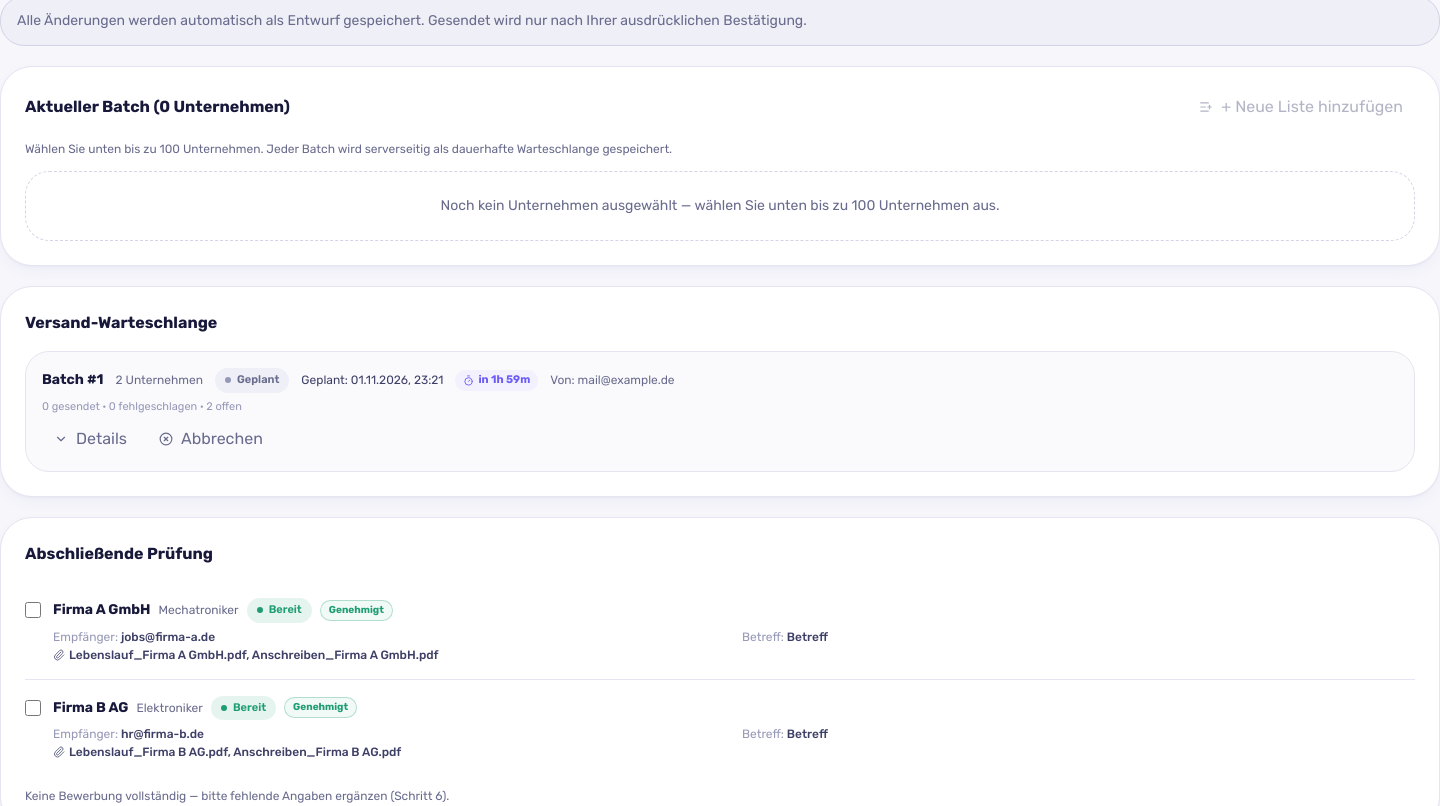
Step 7 batch UI (batchesSupported = true) › renders the queue from persisted data: batch #, count, time, countdown, status, account
The image size is (1440, 806).
Expected: the heading "Aktueller Batch (0 Unternehmen)" is shown, x1=25 y1=95 x2=290 y2=119
Expected: the heading "Versand-Warteschlange" is shown, x1=25 y1=311 x2=217 y2=335
Click the button "Details".
click(90, 439)  # box x1=42 y1=423 x2=139 y2=455
(page scrolled)
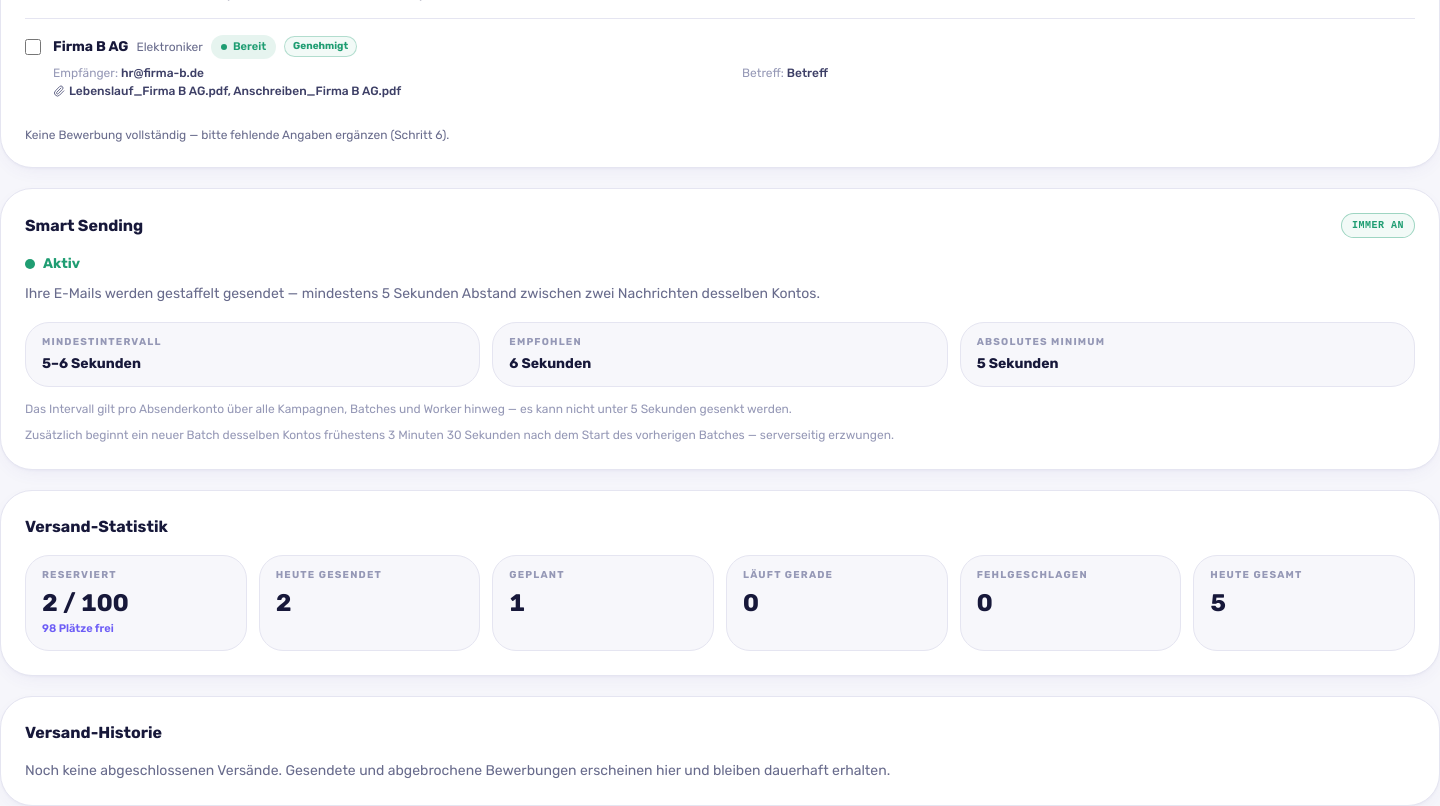
Expected: the heading "Smart Sending" is shown, x1=25 y1=214 x2=143 y2=238
Expected: the text "Firma B AG" is shown 2 times
